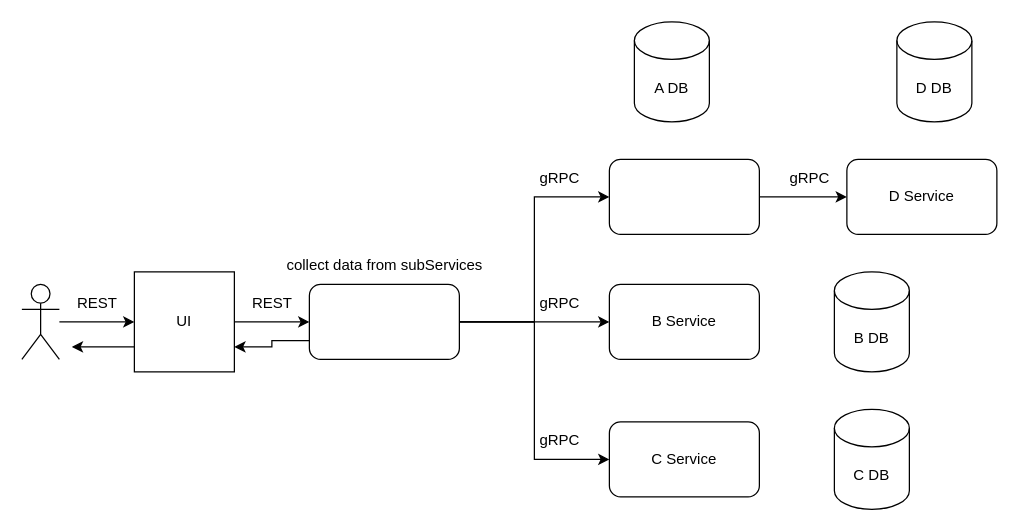
The diagram is 1019 pixels wide and 531 high, and some of its shapes have lost their labels. Here are the shapes that lost their labels. From the top down, the box of each, then its label:
(608, 158, 759, 234): A Service
(21, 283, 59, 359): Burak
(308, 283, 459, 359): AggregatorAPI
